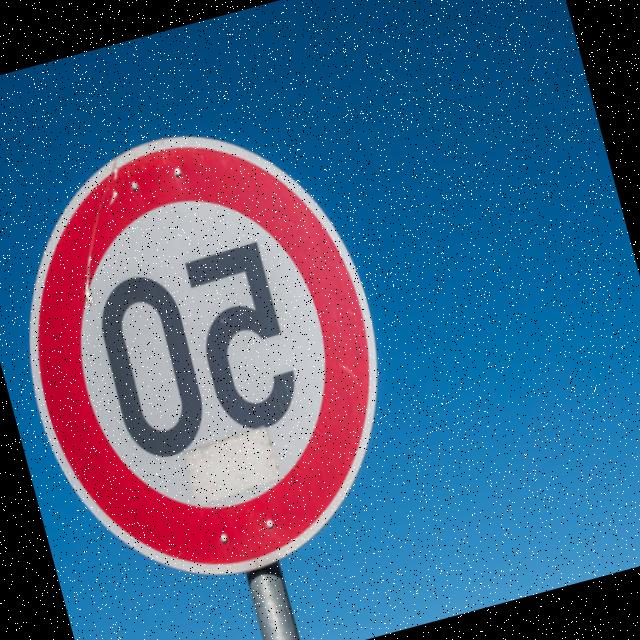speed_limit_50: (0, 75, 445, 618)
